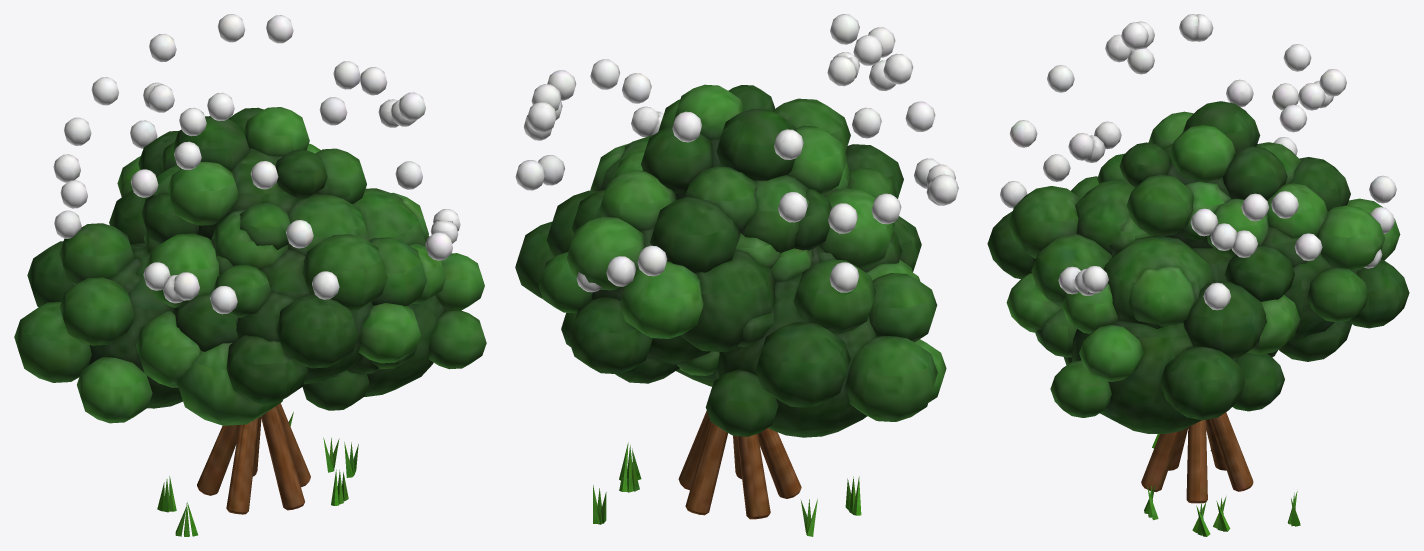
File: sloe_tree.glb
The picture shows the model from 3 angles, left to right: view 1: azimuth 30°, elevation 25°; view 2: azimuth 150°, elevation 25°; view 3: azimuth 270°, elevation 25°; orthographic projection. The views are drawn at different scales.
Parts seen in each view (by area): view 1: crown, sloe_tree; view 2: crown, sloe_tree; view 3: crown, sloe_tree.
Boxes of the visible parts, x1,y1,x2,y2 form: crown: (14, 14, 486, 425); sloe_tree: (157, 403, 358, 536); crown: (515, 14, 958, 437); sloe_tree: (593, 410, 861, 536); crown: (987, 14, 1409, 433); sloe_tree: (1141, 412, 1300, 536).
Bounding box in the file's own units: 1.15 × 1.2 × 1.06.
1 material, 1 textured.
